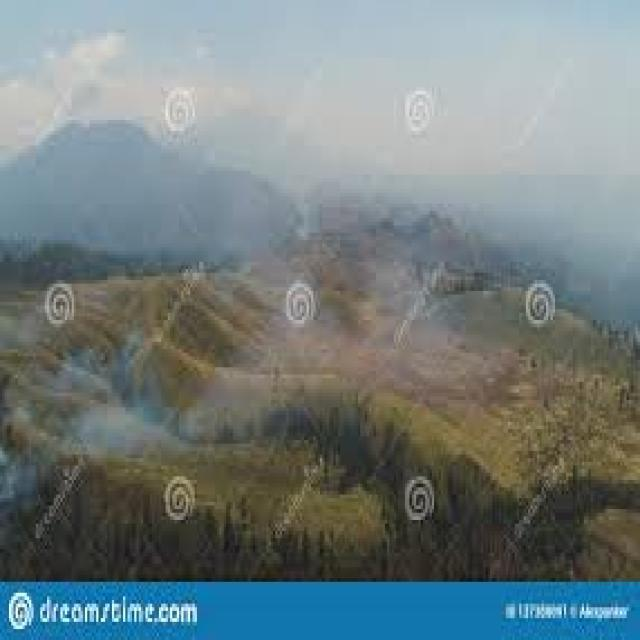Smoke: (2, 276, 180, 524), (338, 176, 511, 411), (184, 233, 335, 458)
